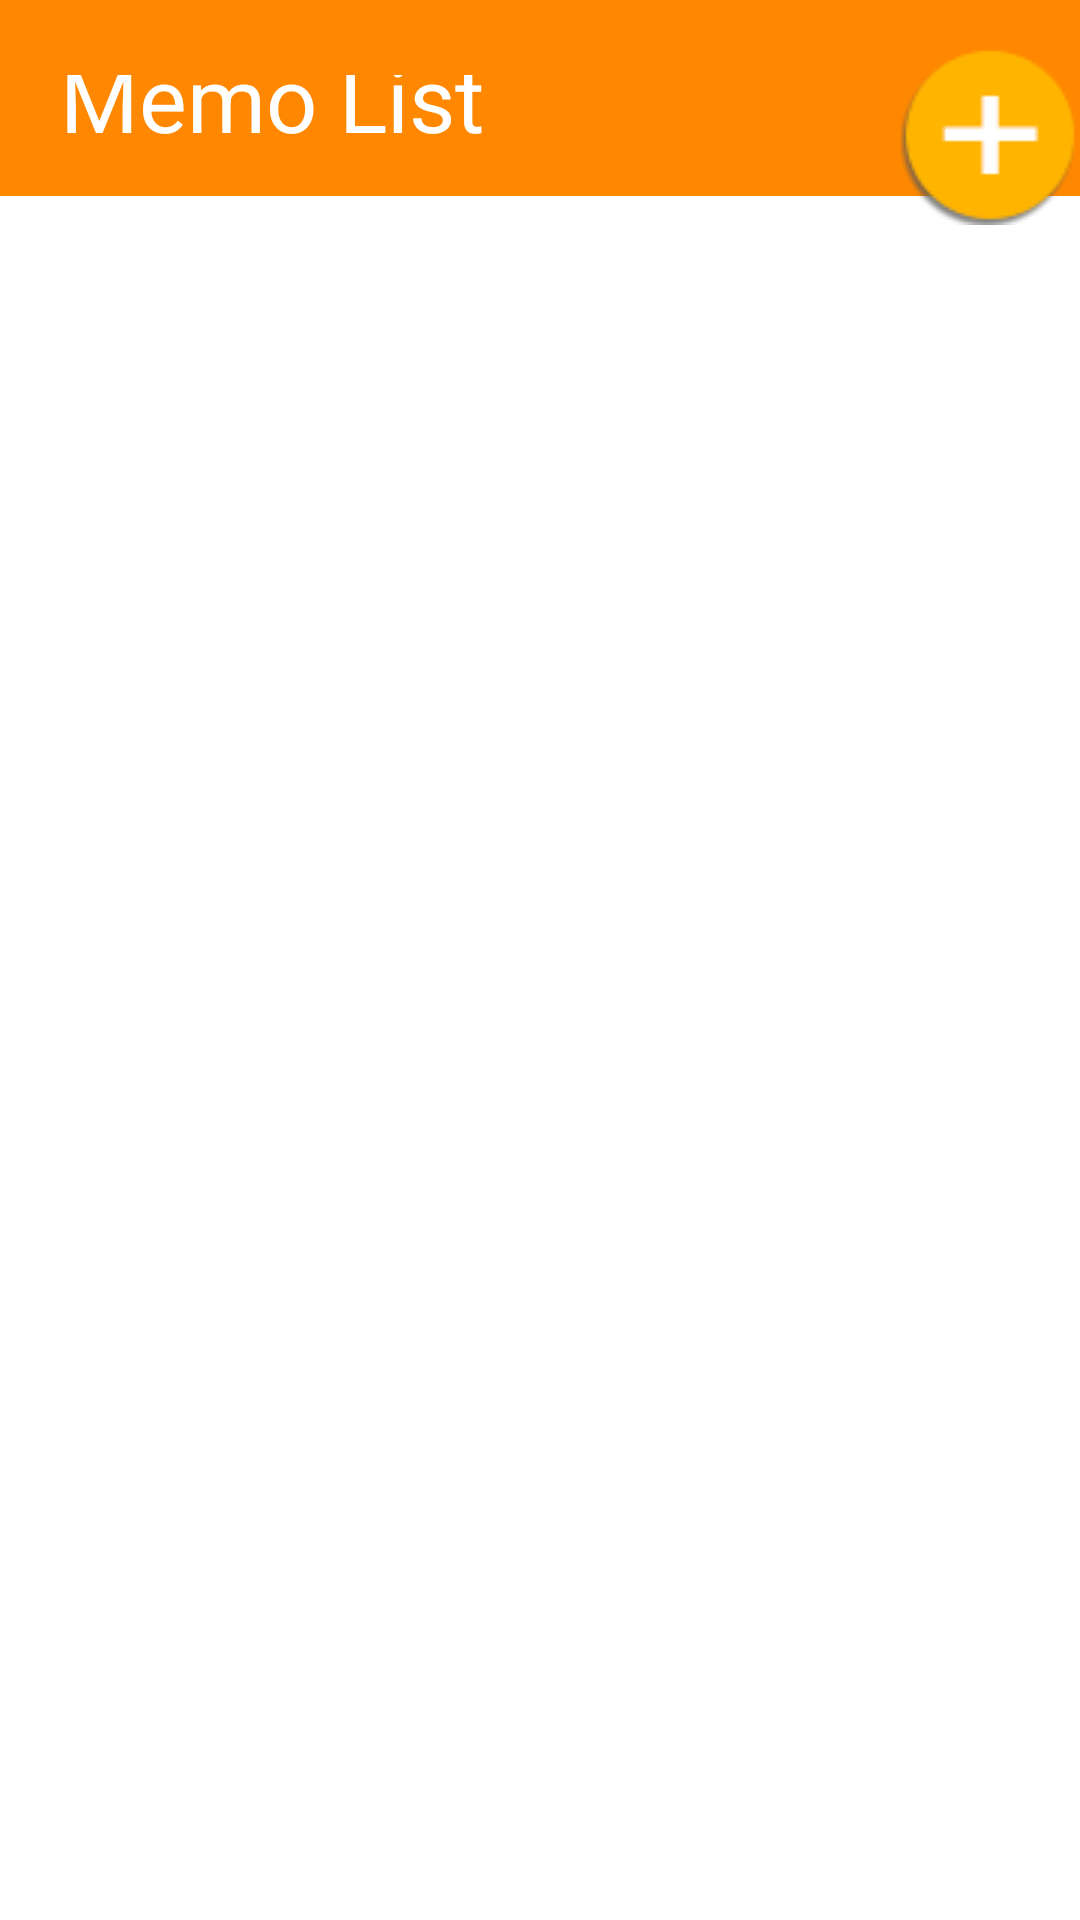

Point at icon controls on the screen. Image size 1080 × 1920, points as (x,y).
New Memo: (990,138)
